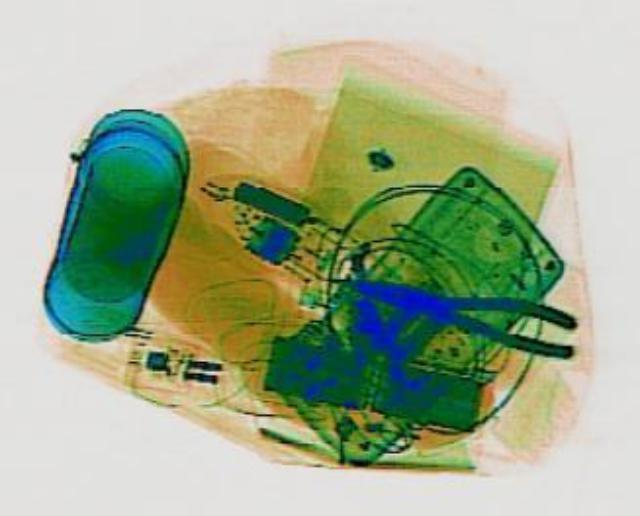Pliers: (341, 255, 587, 359)
